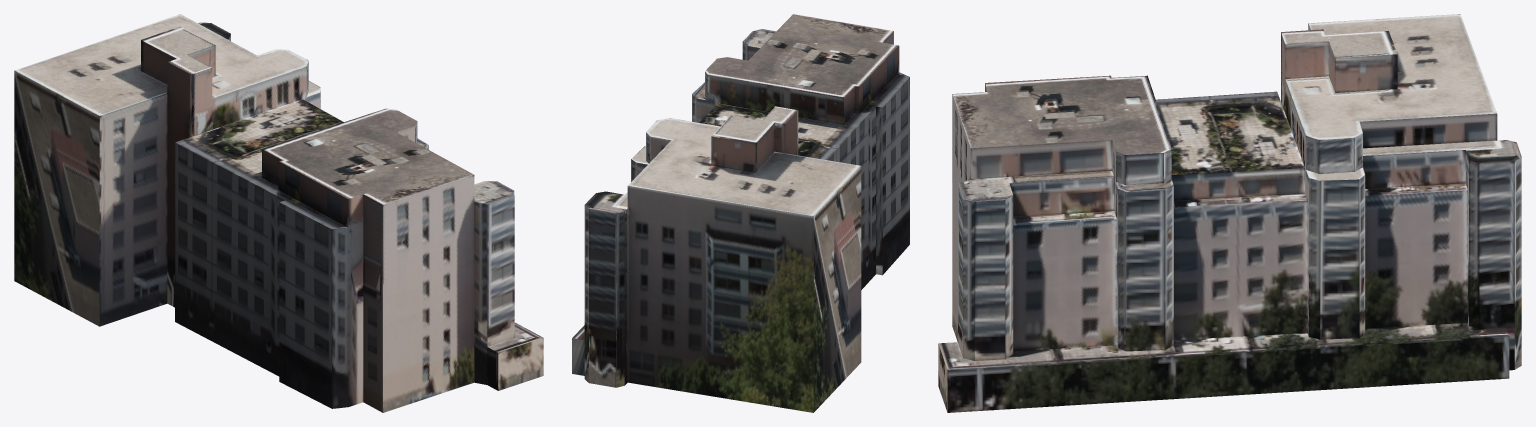
3 views of the same model, side by side, from view 1: azimuth 30°, elevation 25°; view 2: azimuth 150°, elevation 25°; view 3: azimuth 270°, elevation 25° (orthographic). The views are drawn at different scales.
Visible parts, largest first — view 1: Z_UP; view 2: Z_UP; view 3: Z_UP.
Part boxes in pixels (box(x1,y1,x2,y2)): Z_UP: box(14, 14, 543, 412); Z_UP: box(572, 14, 909, 412); Z_UP: box(938, 14, 1521, 412).
Bounding box in the file's own units: 32.02 × 24.69 × 48.29.
Materials: 2 (1 with a texture image).
